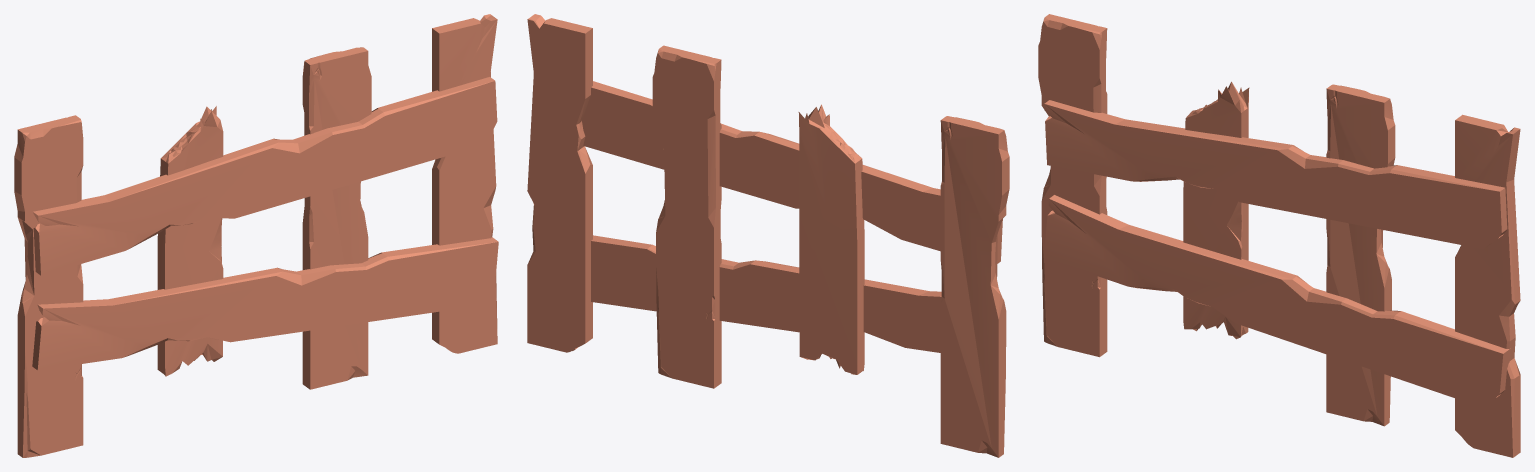
The model's file is Płotek_bez_gwozdzi.fbx.
3 renders of one model, left to right at view 1: azimuth 30°, elevation 25°; view 2: azimuth 150°, elevation 25°; view 3: azimuth 330°, elevation 25°, orthographic.
Parts seen in each view (by area): view 1: Plotek5; view 2: Plotek5; view 3: Plotek5.
Part boxes in pixels (x1,y1,x2,y2): Plotek5: (14, 14, 498, 457); Plotek5: (527, 14, 1009, 457); Plotek5: (1038, 14, 1520, 457).
Size of the model in its own units: 368 by 240 by 18.39.
